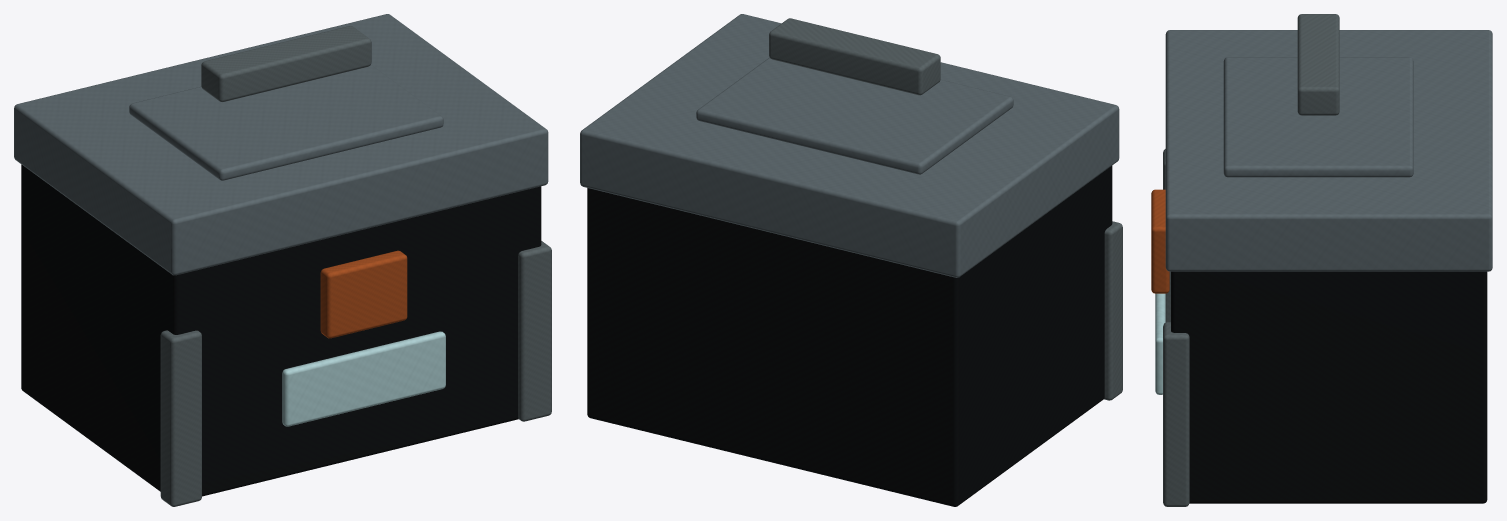
Rendered from SpecimenTransportCase.fbx.
3 views of the same model, side by side, from view 1: azimuth 30°, elevation 25°; view 2: azimuth 150°, elevation 25°; view 3: azimuth 270°, elevation 25° (orthographic).
Visible parts, largest first — view 1: SpecimenTransportCase_Mesh; view 2: SpecimenTransportCase_Mesh; view 3: SpecimenTransportCase_Mesh.
Part boxes in pixels (x1,y1,x2,y2): SpecimenTransportCase_Mesh: (14, 14, 551, 506); SpecimenTransportCase_Mesh: (580, 14, 1122, 506); SpecimenTransportCase_Mesh: (1151, 14, 1492, 506).
Size of the model in its own units: 85 by 76 by 64.75.
